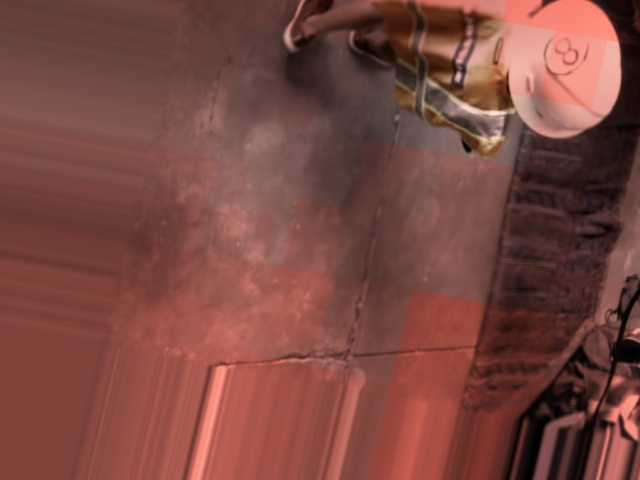eight: (538, 23, 595, 81)
